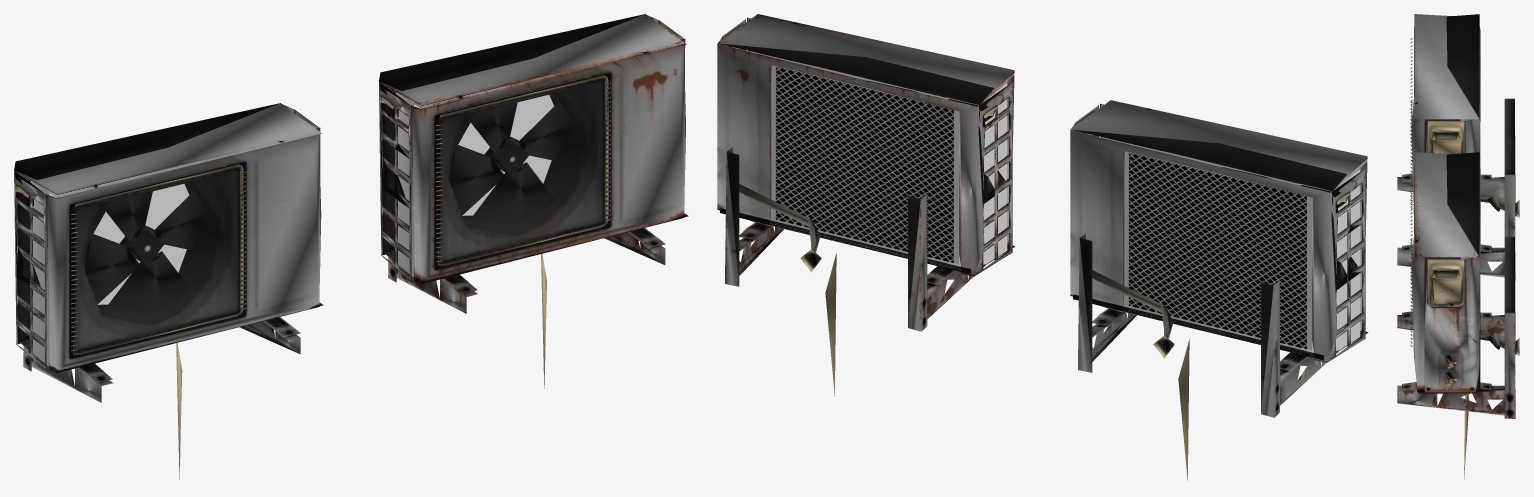
Rendered from aircon.glb.
3 views of the same model, side by side, from view 1: azimuth 30°, elevation 25°; view 2: azimuth 150°, elevation 25°; view 3: azimuth 270°, elevation 25° (orthographic). The views are drawn at different scales.
Visible parts, largest first — view 1: exterior_aircon_unit, exterior_aircon_unit_rusted; view 2: exterior_aircon_unit_rusted, exterior_aircon_unit; view 3: exterior_aircon_unit_rusted, exterior_aircon_unit.
Part boxes in pixels (left/top/right/bottom): exterior_aircon_unit: left=14, top=103, right=323, bottom=479; exterior_aircon_unit_rusted: left=378, top=14, right=688, bottom=388; exterior_aircon_unit_rusted: left=717, top=14, right=1015, bottom=396; exterior_aircon_unit: left=1070, top=100, right=1368, bottom=480; exterior_aircon_unit_rusted: left=1397, top=152, right=1519, bottom=479; exterior_aircon_unit: left=1397, top=14, right=1519, bottom=280.
Bounding box in the file's own units: 1.8 × 0.9235 × 0.375.
4 materials, 4 textured.
